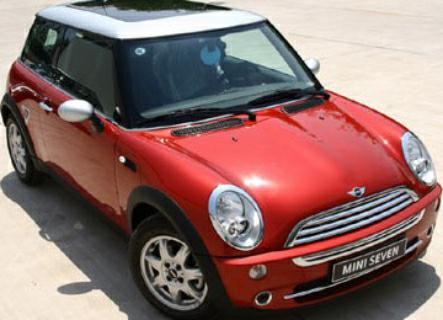MINI: (0, 0, 438, 320)
